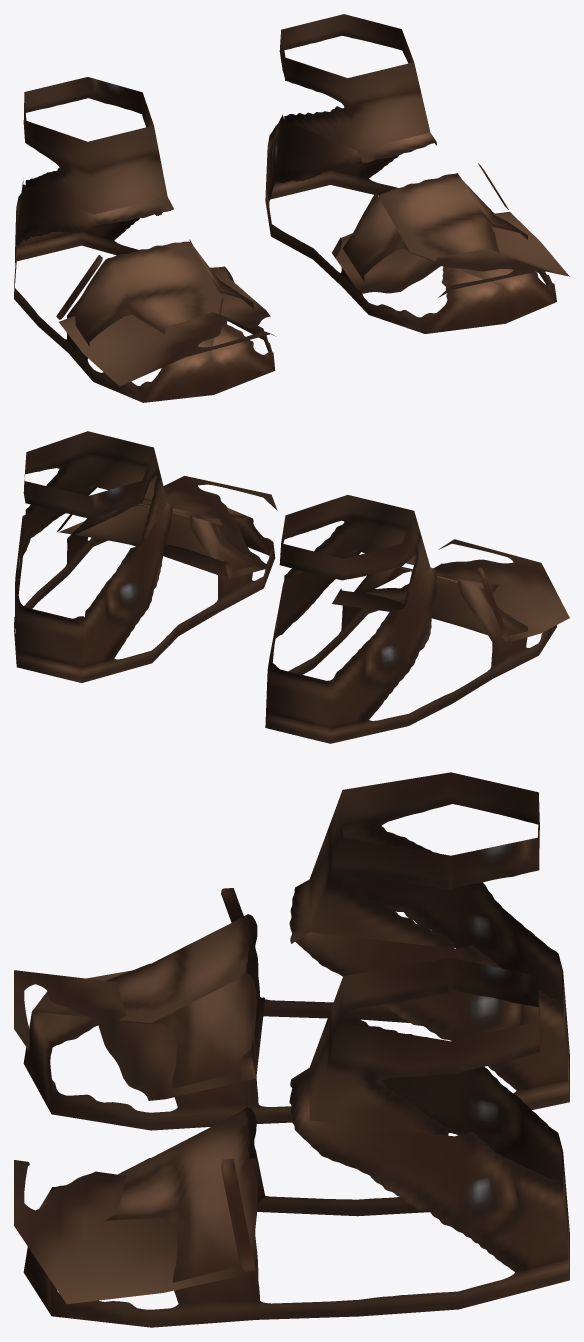
Rendered from hum_berserker_02_745e559d.glb.
3 renders of one model, top to bottom at view 1: azimuth 30°, elevation 25°; view 2: azimuth 150°, elevation 25°; view 3: azimuth 270°, elevation 25°, orthographic. The views are drawn at different scales.
Size of the model in its own units: 0.6264 by 0.2327 by 0.4488.
Materials: 1 (1 with a texture image).
